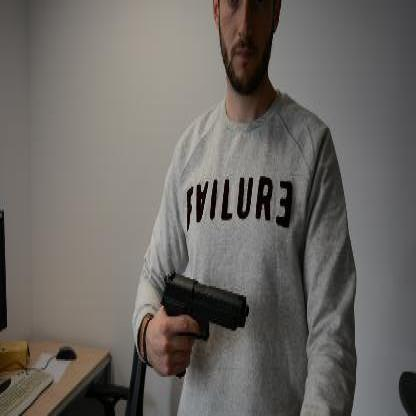pistol: (160, 269, 248, 378)
